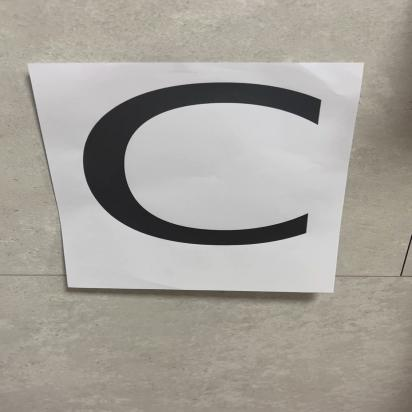seat: (39, 64, 348, 304), (50, 72, 338, 291)
